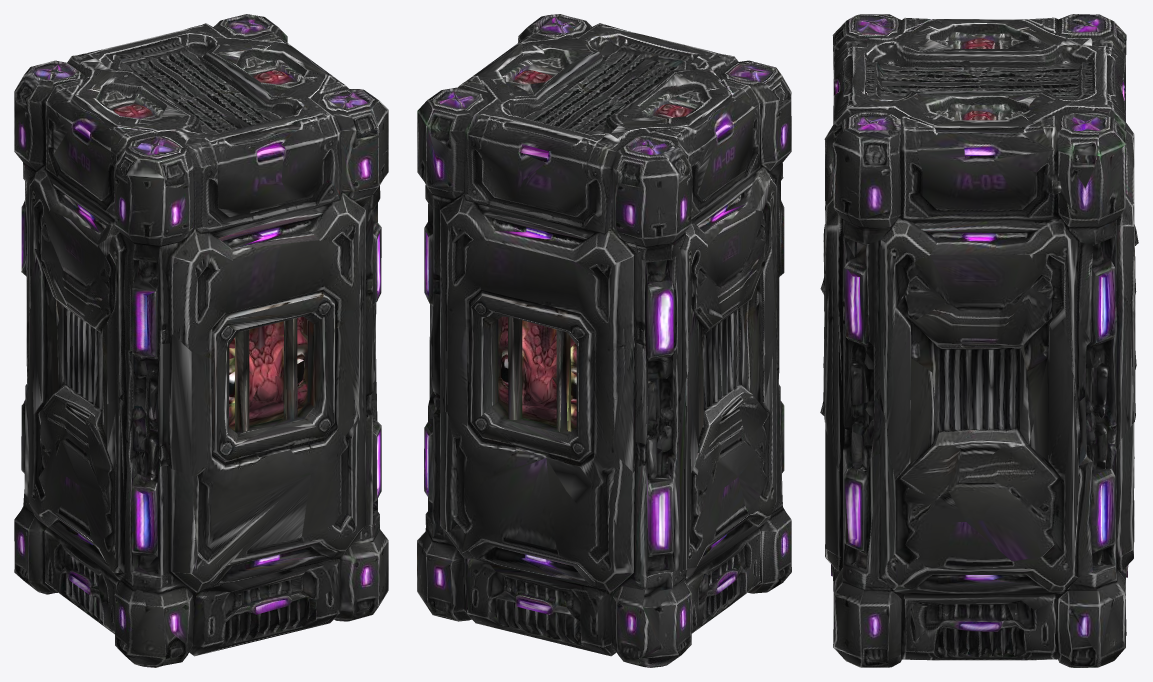
The model's file is Rescue_Cage_Optimized.glb.
The picture shows the model from 3 angles, left to right: view 1: azimuth 30°, elevation 25°; view 2: azimuth 150°, elevation 25°; view 3: azimuth 270°, elevation 25°; orthographic projection. The views are drawn at different scales.
Visible parts, largest first — view 1: mesh_node; view 2: mesh_node; view 3: mesh_node.
Boxes of the visible parts, x1=… form: mesh_node: x1=14, y1=14, x2=388, y2=667; mesh_node: x1=417, y1=14, x2=791, y2=667; mesh_node: x1=820, y1=14, x2=1138, y2=667.
Size of the model in its own units: 1.01 by 1.9 by 1.02.
Materials: 1 (1 with a texture image).
